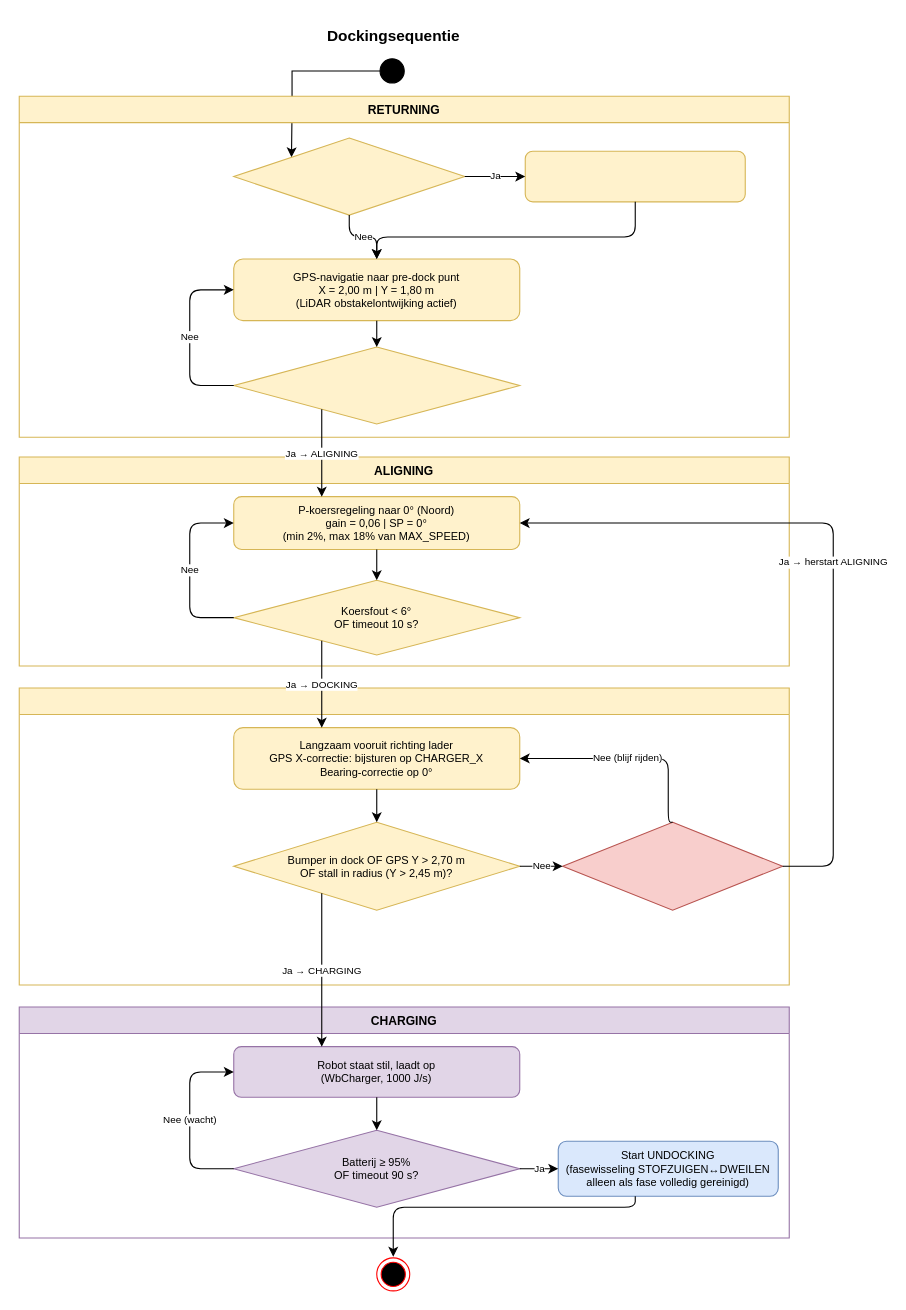
This 906x1310 diagram has some shape labels left out. The shapes that lost their labels are listed below. From the top down, each one's box as (x1, y1, x2, y2) in pixels, then its label:
(233, 137, 465, 215): Robot Y < 0,30 m?
(524, 150, 745, 202): Voeg via-punt toe (X=0,50; Y=0,50) om tafelzone te omzeilen
(233, 346, 520, 424): Pre-dock bereikt? (ΔX < 0,06 m; ΔY < 0,25 m)
(18, 687, 789, 985): DOCKING
(562, 821, 783, 910): Stall buiten radius OF timeout 45 s?
